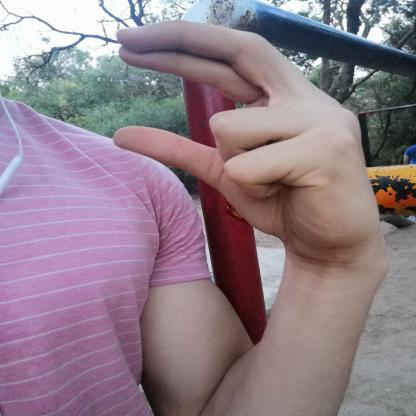DHELL: (90, 12, 398, 267)
